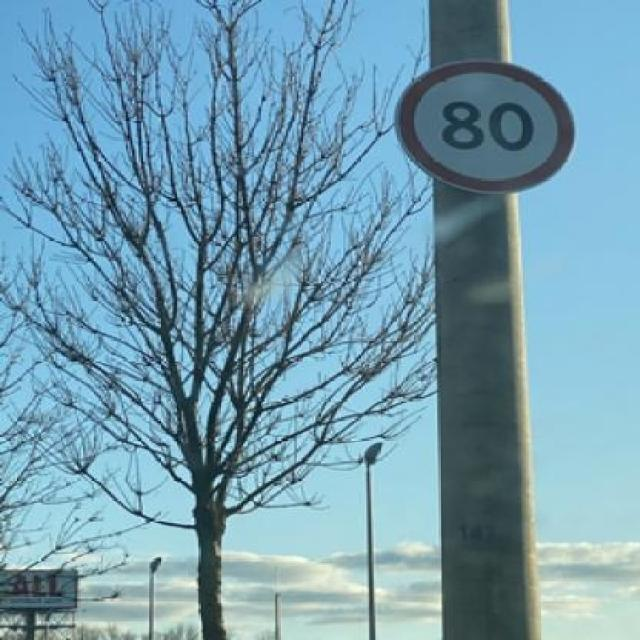forb_speed_over_80: (397, 59, 575, 196)
